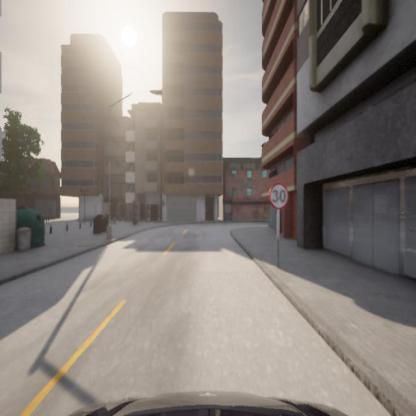traffic_sign_30: (268, 181, 289, 209)
